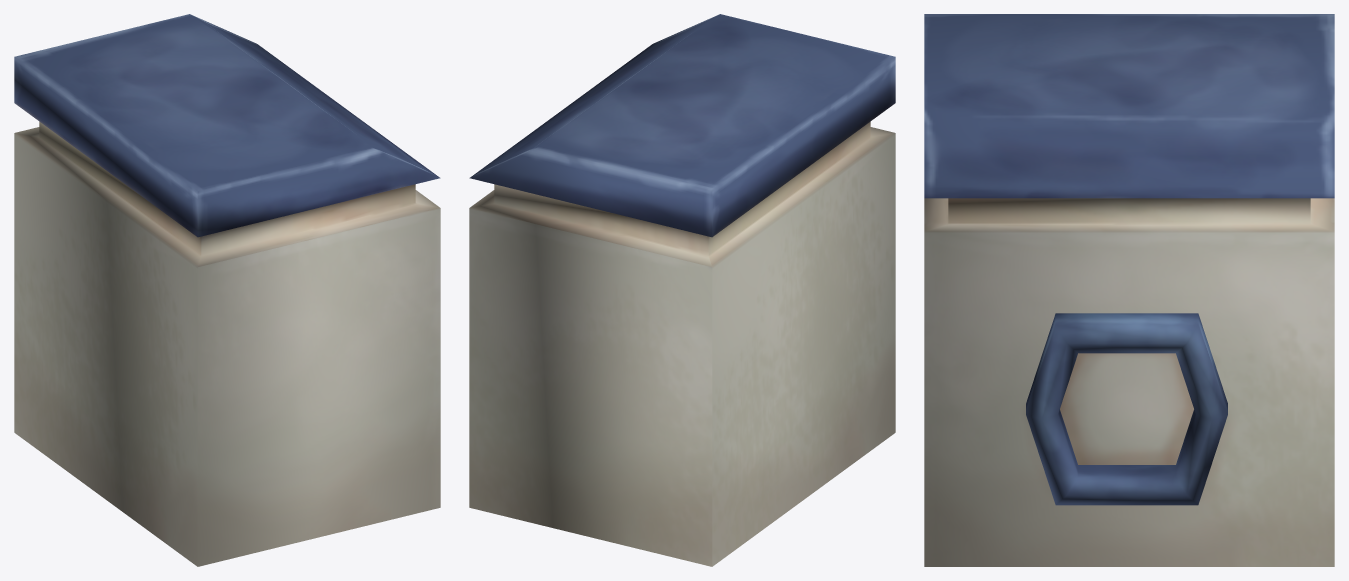
File: SiloGenerator.fbx
3 views of the same model, side by side, from view 1: azimuth 30°, elevation 25°; view 2: azimuth 150°, elevation 25°; view 3: azimuth 270°, elevation 25° (orthographic). The views are drawn at different scales.
Visible parts, largest first — view 1: SiloGenerator; view 2: SiloGenerator; view 3: SiloGenerator.
Boxes of the visible parts, bbox=[...] form: SiloGenerator: bbox=[14, 14, 440, 566]; SiloGenerator: bbox=[469, 14, 895, 566]; SiloGenerator: bbox=[924, 14, 1334, 566].
Bounding box in the file's own units: 309 × 408 × 361.
